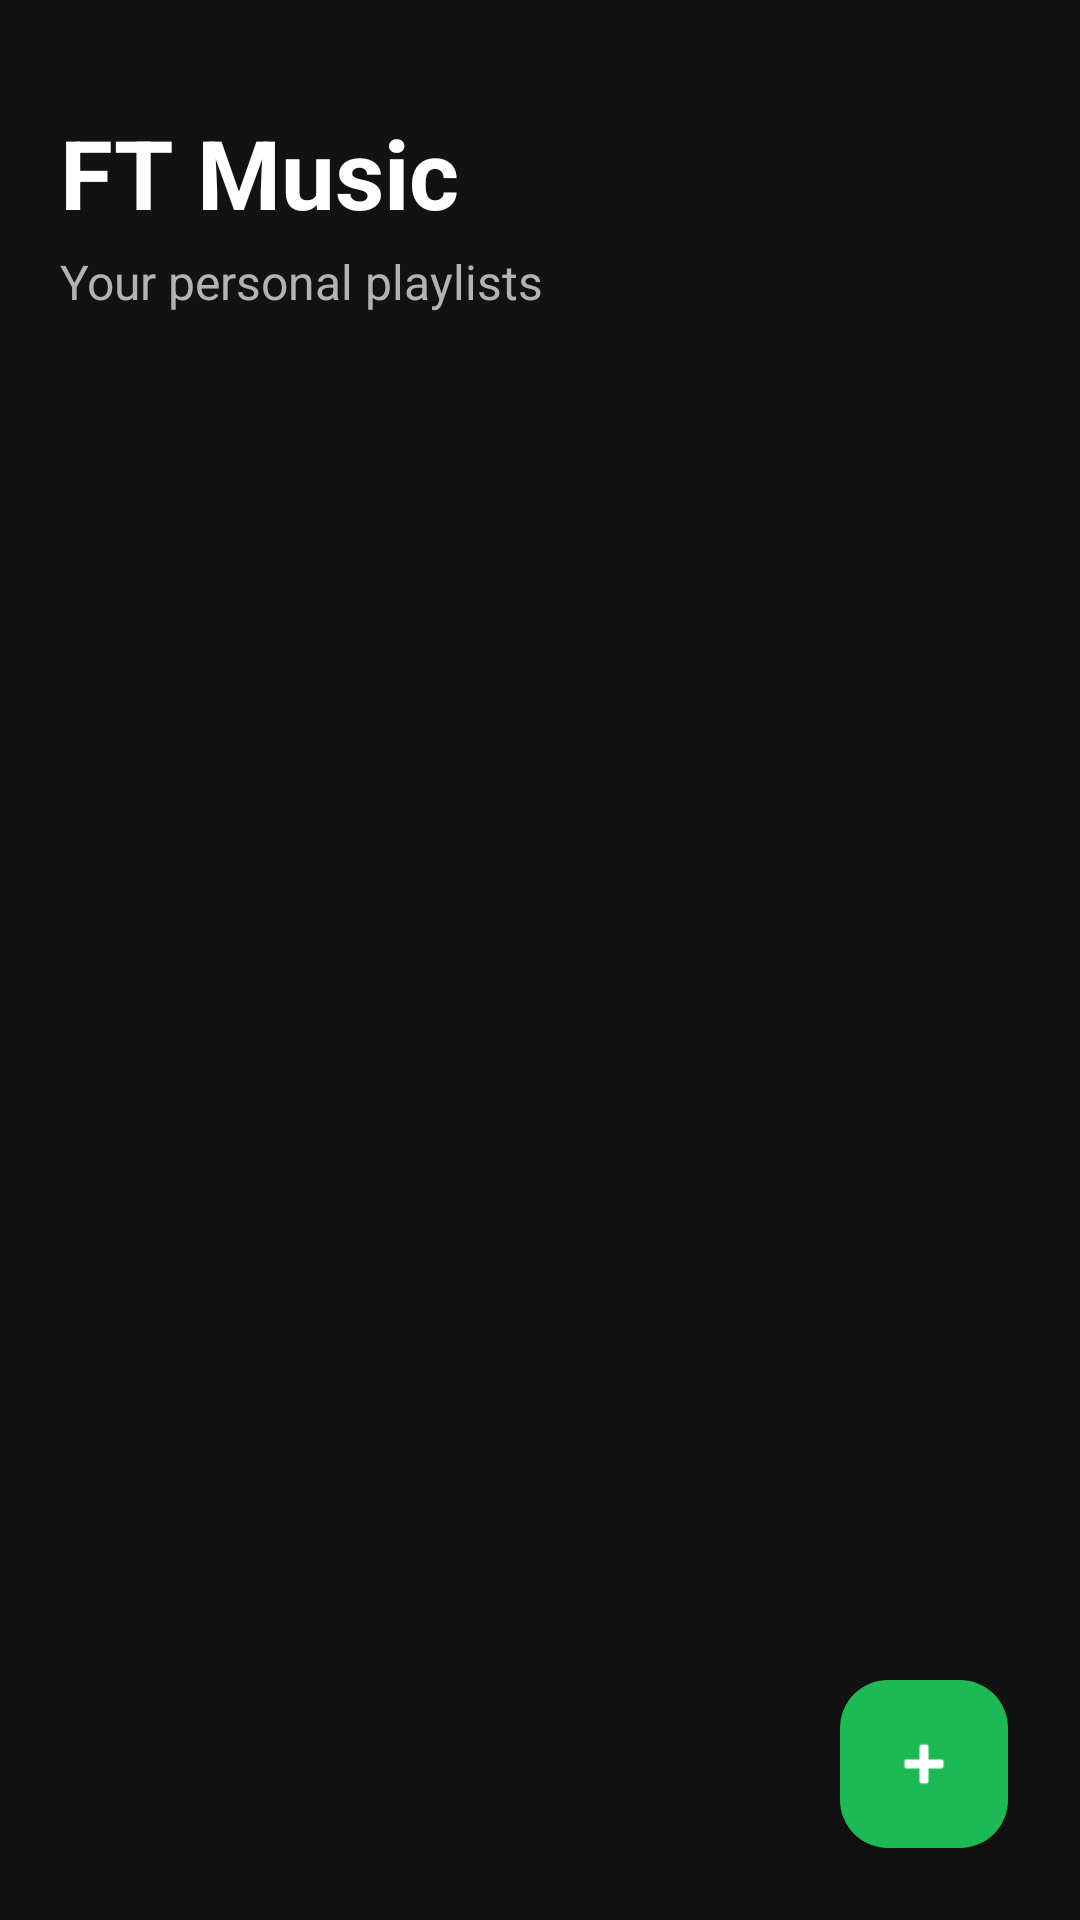

Icon bounding boxes for this 1080px x 1920px phone screenshot, format rect(x1, y1, x2, y2):
Add playlist: rect(840, 1680, 1008, 1848)
